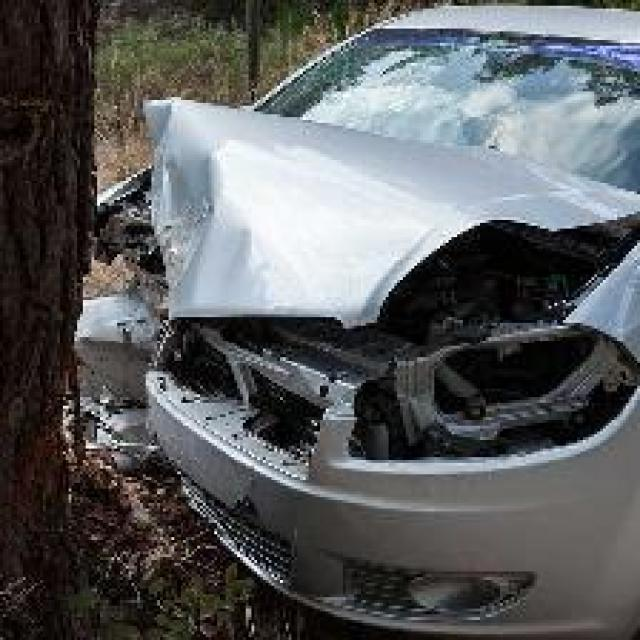damaged: (140, 100, 637, 483)
